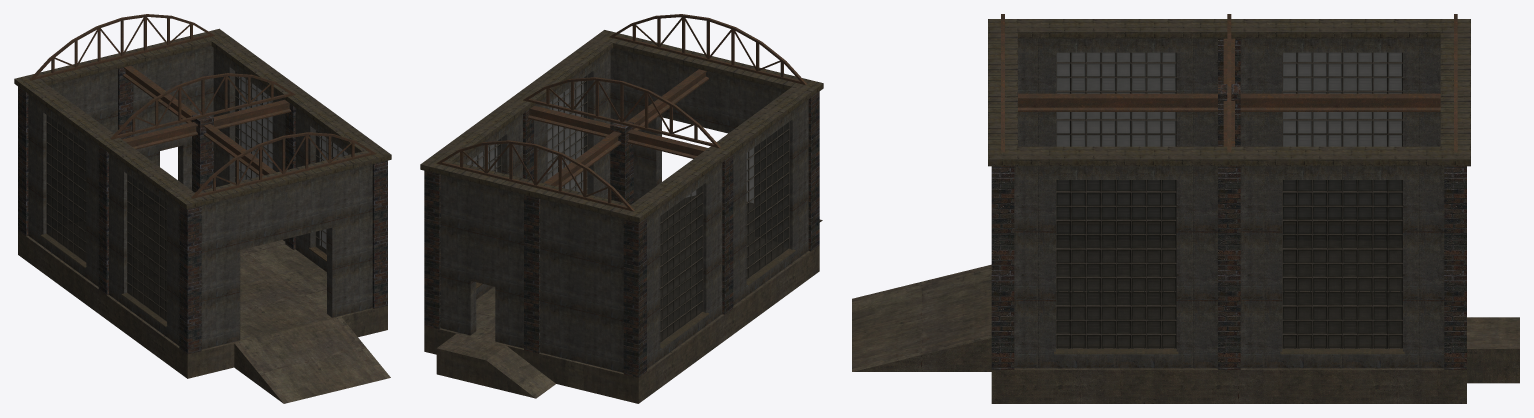
File: warehouse_mx_3.obj
The picture shows the model from 3 angles, left to right: view 1: azimuth 30°, elevation 25°; view 2: azimuth 150°, elevation 25°; view 3: azimuth 270°, elevation 25°; orthographic projection. The views are drawn at different scales.
Visible parts, largest first — view 1: warehouse_mx_3; view 2: warehouse_mx_3; view 3: warehouse_mx_3.
Part boxes in pixels (x1,y1,x2,y2): warehouse_mx_3: (14, 14, 391, 403); warehouse_mx_3: (420, 14, 823, 403); warehouse_mx_3: (852, 14, 1519, 403).
Bounding box in the file's own units: 8.8 × 8.82 × 17.7.
